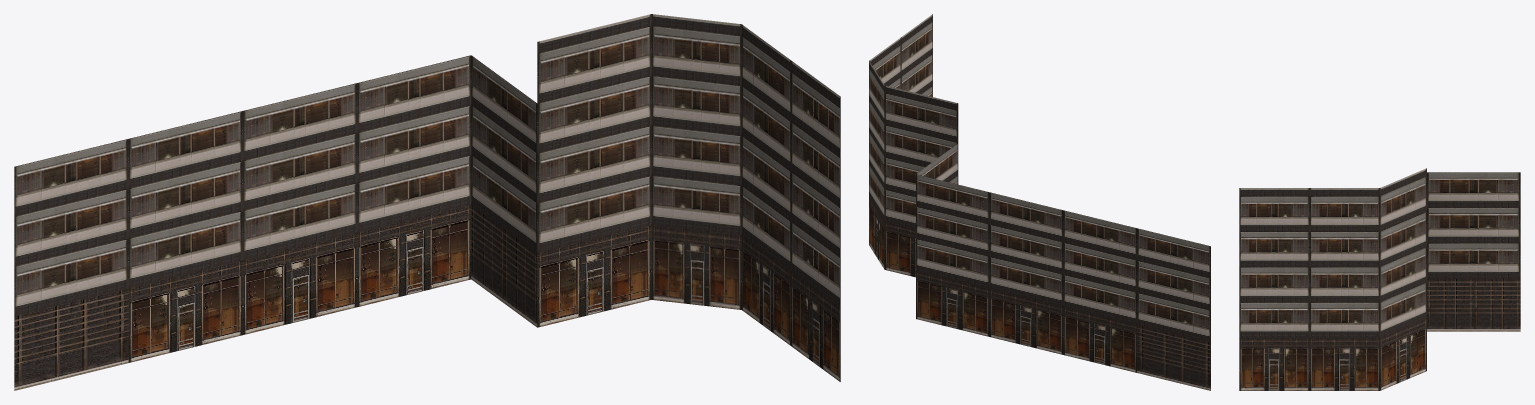
File: M2Zone4_Building08B.glb
3 views of the same model, side by side, from view 1: azimuth 30°, elevation 25°; view 2: azimuth 150°, elevation 25°; view 3: azimuth 270°, elevation 25° (orthographic). The views are drawn at different scales.
Parts seen in each view (by area): view 1: M2ZONE4_BUILDING08B; view 2: M2ZONE4_BUILDING08B; view 3: M2ZONE4_BUILDING08B.
Boxes of the visible parts, bbox=[...] form: M2ZONE4_BUILDING08B: bbox=[14, 14, 840, 390]; M2ZONE4_BUILDING08B: bbox=[869, 14, 1210, 390]; M2ZONE4_BUILDING08B: bbox=[1239, 168, 1520, 390].
Bounding box in the file's own units: 44 × 19.12 × 24.
3 materials, 3 textured.
